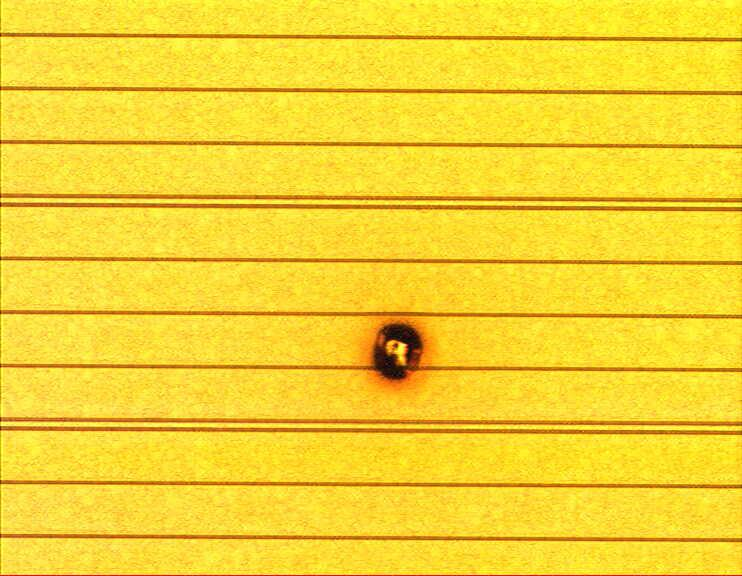PIQ PARTICLE: (357, 312, 441, 396)
